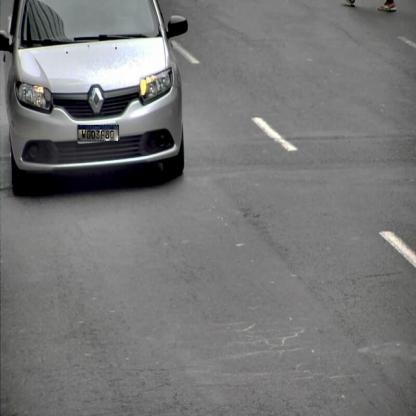PlacaM: (78, 125, 119, 141)
